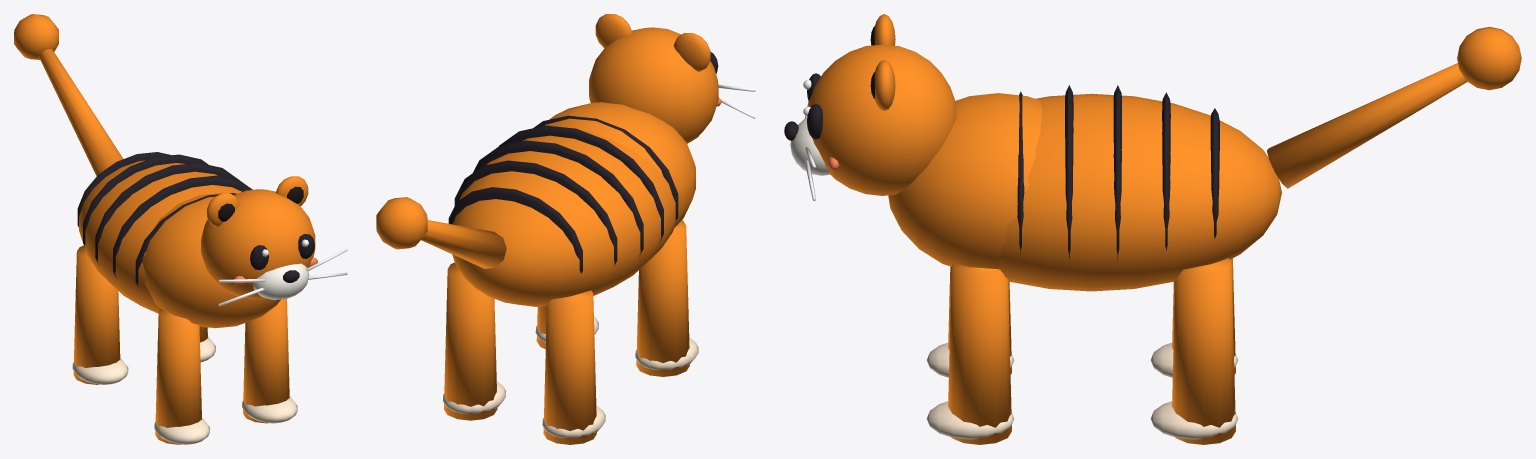
File: Pet_Tiger.fbx
The picture shows the model from 3 angles, left to right: view 1: azimuth 30°, elevation 25°; view 2: azimuth 150°, elevation 25°; view 3: azimuth 270°, elevation 25°; orthographic projection. The views are drawn at different scales.
Parts seen in each view (by area): view 1: Pet_Tiger; view 2: Pet_Tiger; view 3: Pet_Tiger.
Part boxes in pixels (x1=…): Pet_Tiger: x1=14, y1=14, x2=347, y2=444; Pet_Tiger: x1=376, y1=14, x2=755, y2=444; Pet_Tiger: x1=784, y1=14, x2=1521, y2=444.
Size of the model in its own units: 2.75 by 4.66 by 8.3.
Materials: 1 (1 with a texture image).
